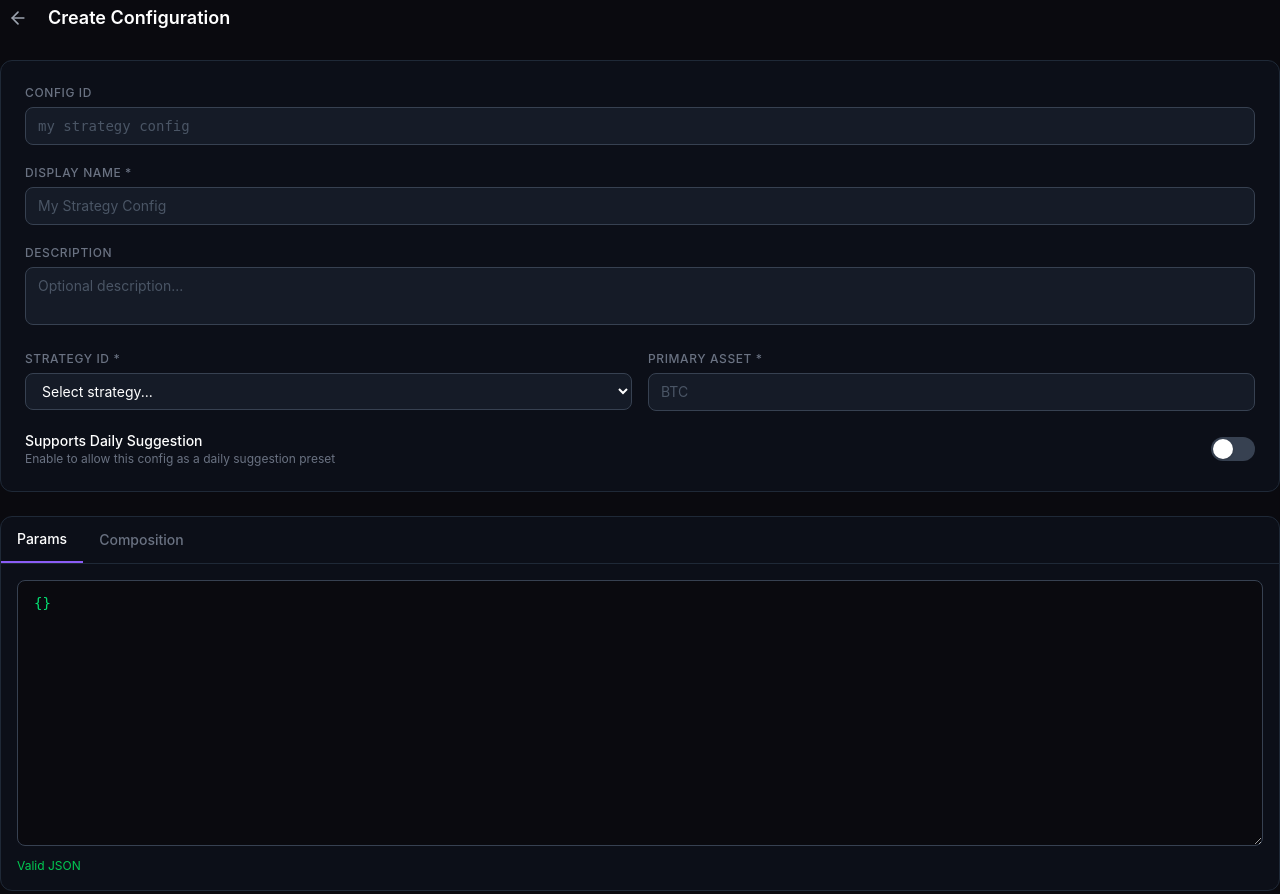
ConfigEditorView › JSON editor tabs › does not show JSON status message when textarea is empty
Clear the text box showing "{}" at [640, 713], box x1=17 y1=580 x2=1263 y2=846
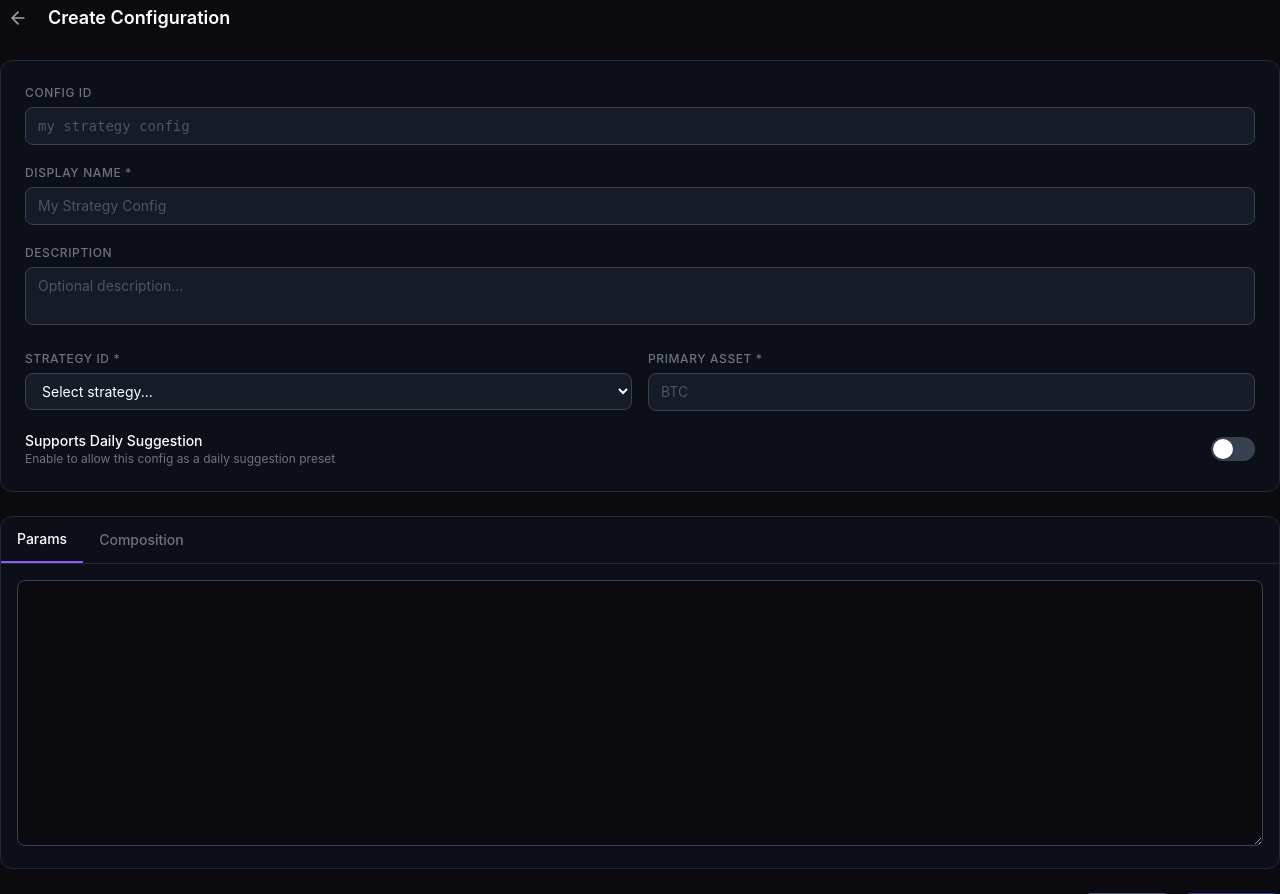
Check: the text "Valid JSON" is gone
